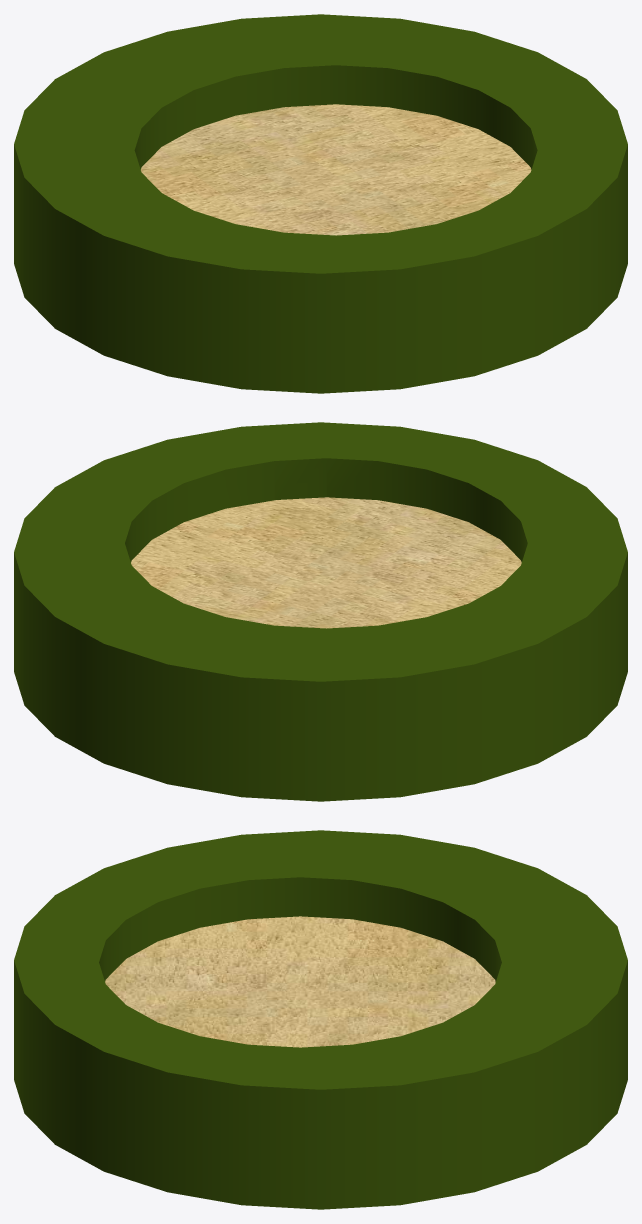
3 views of the same model, one above another, from view 1: azimuth 30°, elevation 25°; view 2: azimuth 150°, elevation 25°; view 3: azimuth 270°, elevation 25° (orthographic).
Parts seen in each view (by area): view 1: mesh1-geometry-0, mesh1-geometry-2; view 2: mesh1-geometry-0, mesh1-geometry-2; view 3: mesh1-geometry-0, mesh1-geometry-2.
Boxes of the visible parts, box(x1,y1,x2,y2) form: mesh1-geometry-0: box(14, 14, 627, 393); mesh1-geometry-2: box(141, 104, 531, 235); mesh1-geometry-0: box(14, 422, 627, 801); mesh1-geometry-2: box(131, 497, 521, 628); mesh1-geometry-0: box(14, 830, 627, 1209); mesh1-geometry-2: box(105, 916, 495, 1047).
Bounding box in the file's own units: 0.699 × 0.1506 × 0.699.
